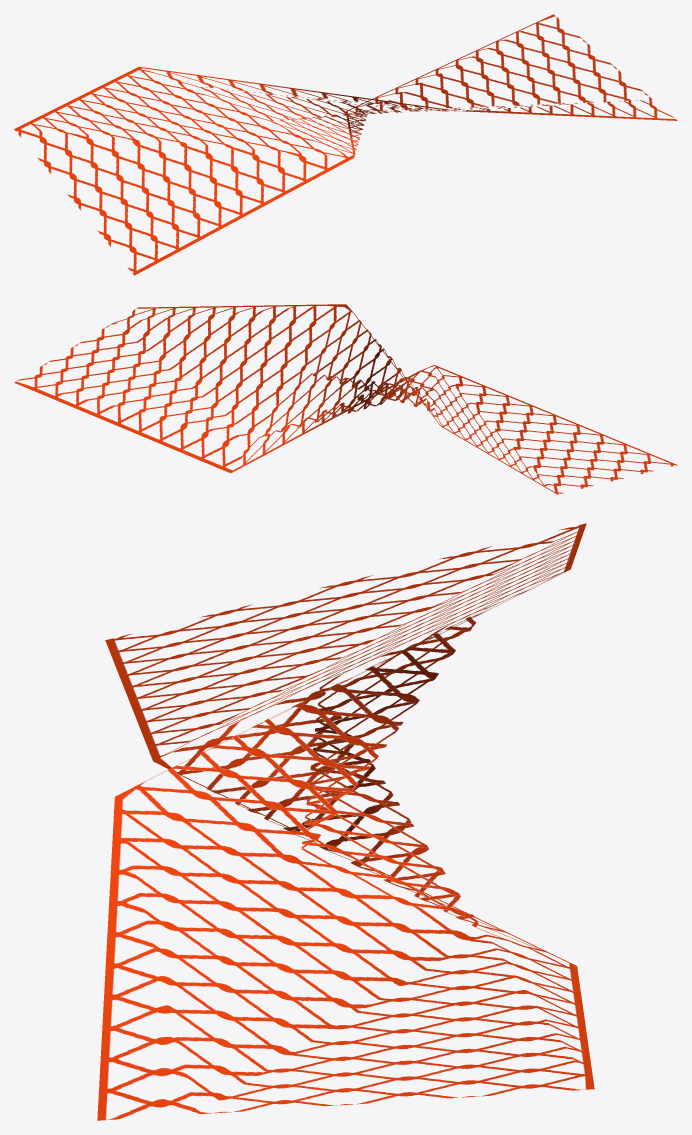
Rendered from orangeFence_loose_2.fbx.
3 renders of one model, top to bottom at view 1: azimuth 30°, elevation 25°; view 2: azimuth 150°, elevation 25°; view 3: azimuth 270°, elevation 25°, orthographic. The views are drawn at different scales.
Parts seen in each view (by area): view 1: Plane01, Duplicate02; view 2: Plane01, Duplicate02; view 3: Plane01, Duplicate02.
Boxes of the visible parts, box(x1,y1,x2,y2) form: Plane01: box(14, 14, 677, 275); Duplicate02: box(17, 18, 673, 253); Plane01: box(14, 304, 677, 494); Duplicate02: box(19, 304, 669, 493); Plane01: box(97, 523, 594, 1120); Duplicate02: box(98, 524, 593, 1120).
Bounding box in the file's own units: 210 × 35.71 × 83.3.
